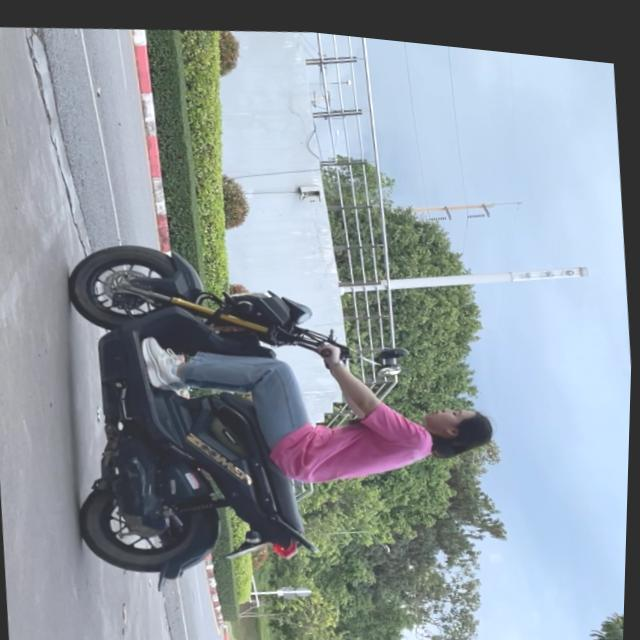seatbelt: (419, 389, 498, 455)
